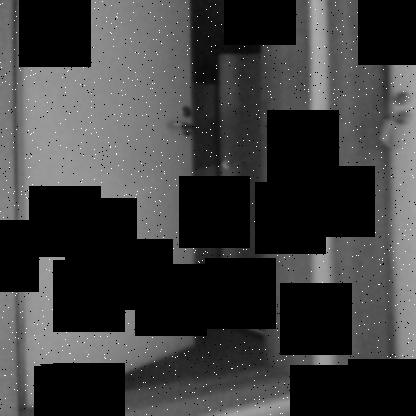Porte: (1, 1, 318, 415)
